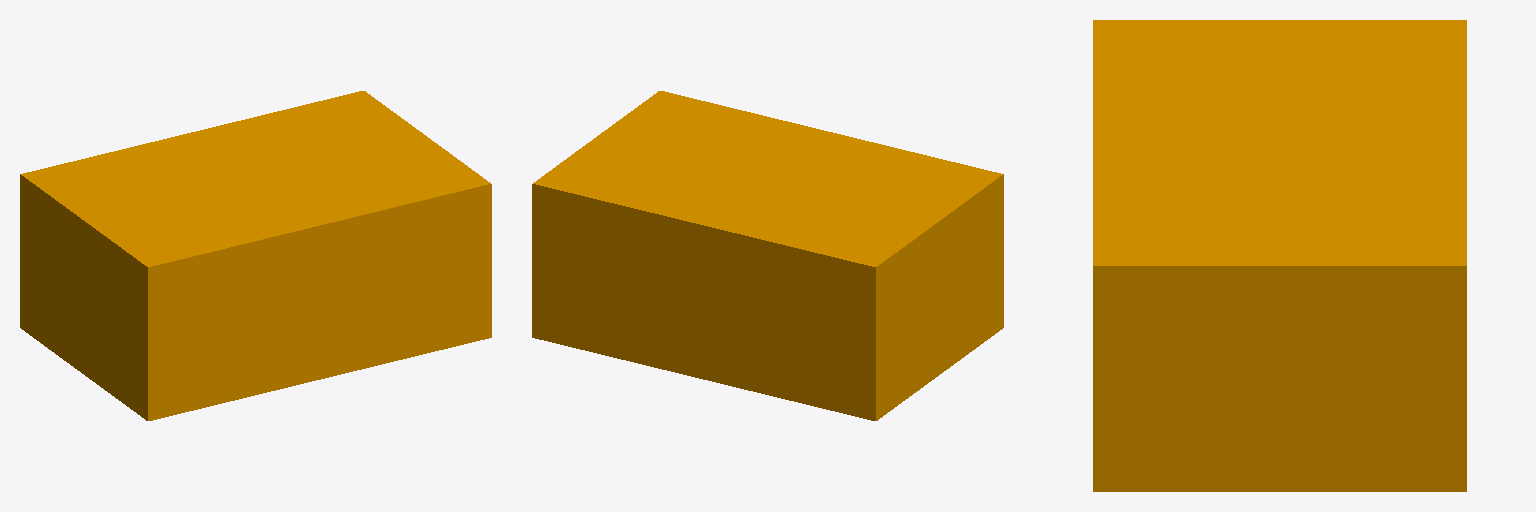
The robot description file, URDF, robot "2x2":
<?xml version='1.0' encoding='UTF-8'?>
<robot name="2x2">
  <link name="base_link">
    <inertial>
      <origin xyz="0.0 0.0 0.0" rpy="0.0 0.0 0.0"/>
      <mass value="0.01"/>
      <inertia ixx="0.1" ixy="0.0" ixz="0.0" iyy="0.1" iyz="0.0" izz="0.1"/>
    </inertial>
    <visual>
      <geometry>
        <box size="0.028 0.018 0.012"/>
      </geometry>
      <material name=""/>
      <origin xyz="0.0 0.0 0.0" rpy="0.0 0.0 0.0"/>
    </visual>
    <collision>
      <geometry>
        <box size="0.028 0.018 0.012"/>
      </geometry>
      <origin xyz="0.0 0.0 0.0" rpy="0.0 0.0 0.0"/>
    </collision>
  </link>
  <material name="">
    <color rgba="1. 1. 1. 1."/>
  </material>
  <contact>
    <lateral_friction value="1.0"/>
    <rolling_friction value="0.0"/>
    <contact_cfm value="0.0"/>
    <contact_erp value="1.0"/>
  </contact>
</robot>

--- Facts derived from the render (not from the file) ---
The picture shows the robot from 3 angles, left to right: view 1: azimuth 30°, elevation 25°; view 2: azimuth 150°, elevation 25°; view 3: azimuth 270°, elevation 25°; orthographic projection.
Model 2x2 with 1 links and 0 joints (none), rooted at base_link, posed every joint at zero.
Links seen in each view (by area): view 1: base_link; view 2: base_link; view 3: base_link.
Link boxes in pixels (x1=…): base_link: x1=20, y1=91, x2=491, y2=420; base_link: x1=532, y1=91, x2=1003, y2=420; base_link: x1=1093, y1=20, x2=1466, y2=491.
Size in the robot's own frame: 0.028 by 0.018 by 0.012 metres.
Geometry: primitives only (box / cylinder / sphere), no mesh files.